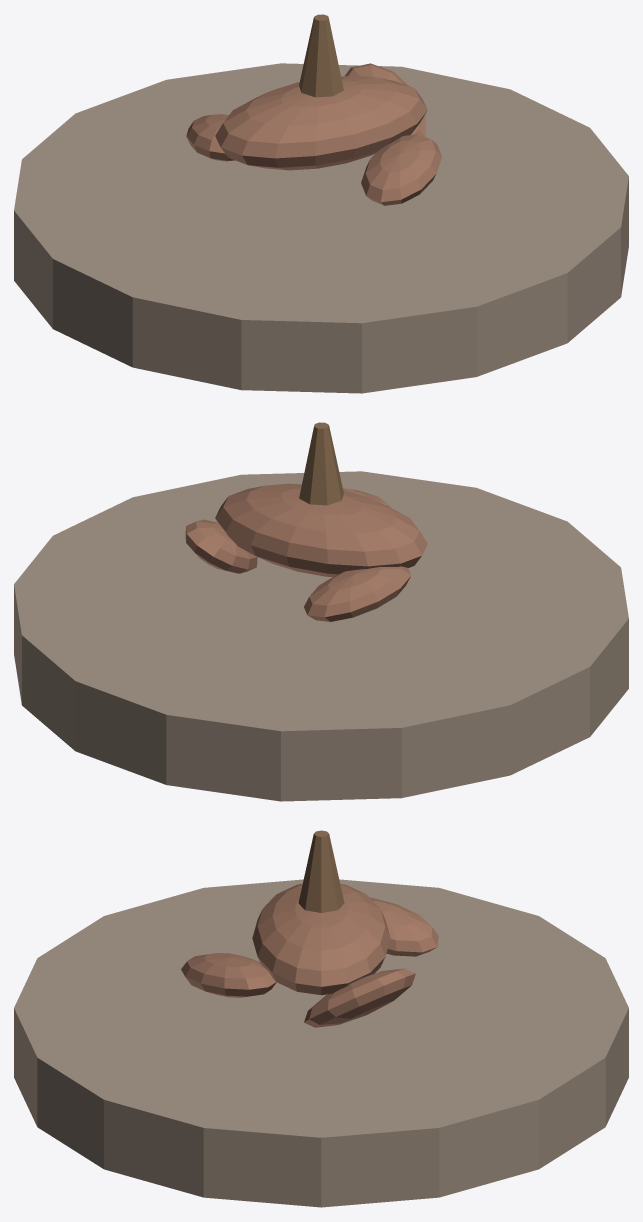
Rendered from seedstage_apple.glb.
3 views of the same model, one above another, from view 1: azimuth 30°, elevation 25°; view 2: azimuth 150°, elevation 25°; view 3: azimuth 270°, elevation 25° (orthographic).
Visible parts, largest first — view 1: AppleSeed_Base, AppleSeed_Main, AppleSeed_Small_2, AppleSeed_Stem, AppleSeed_Small_1, AppleSeed_Small_0; view 2: AppleSeed_Base, AppleSeed_Main, AppleSeed_Small_1, AppleSeed_Stem, AppleSeed_Small_0; view 3: AppleSeed_Base, AppleSeed_Main, AppleSeed_Small_0, AppleSeed_Small_2, AppleSeed_Stem, AppleSeed_Small_1.
Boxes of the visible parts, x1,y1,x2,y2 form: AppleSeed_Base: (14, 63, 628, 393); AppleSeed_Main: (215, 75, 427, 170); AppleSeed_Small_2: (361, 134, 441, 205); AppleSeed_Stem: (299, 14, 343, 97); AppleSeed_Small_1: (186, 114, 235, 161); AppleSeed_Small_0: (345, 63, 425, 136); AppleSeed_Base: (14, 471, 628, 801); AppleSeed_Main: (215, 483, 427, 576); AppleSeed_Small_1: (304, 566, 411, 621); AppleSeed_Stem: (299, 422, 343, 505); AppleSeed_Small_0: (185, 519, 257, 573); AppleSeed_Base: (14, 879, 628, 1207); AppleSeed_Main: (252, 884, 390, 995); AppleSeed_Small_0: (304, 968, 415, 1027); AppleSeed_Small_2: (181, 953, 276, 997); AppleSeed_Stem: (298, 830, 344, 912); AppleSeed_Small_1: (370, 897, 438, 956).
Size of the model in its own units: 0.8 by 0.35 by 0.8.
